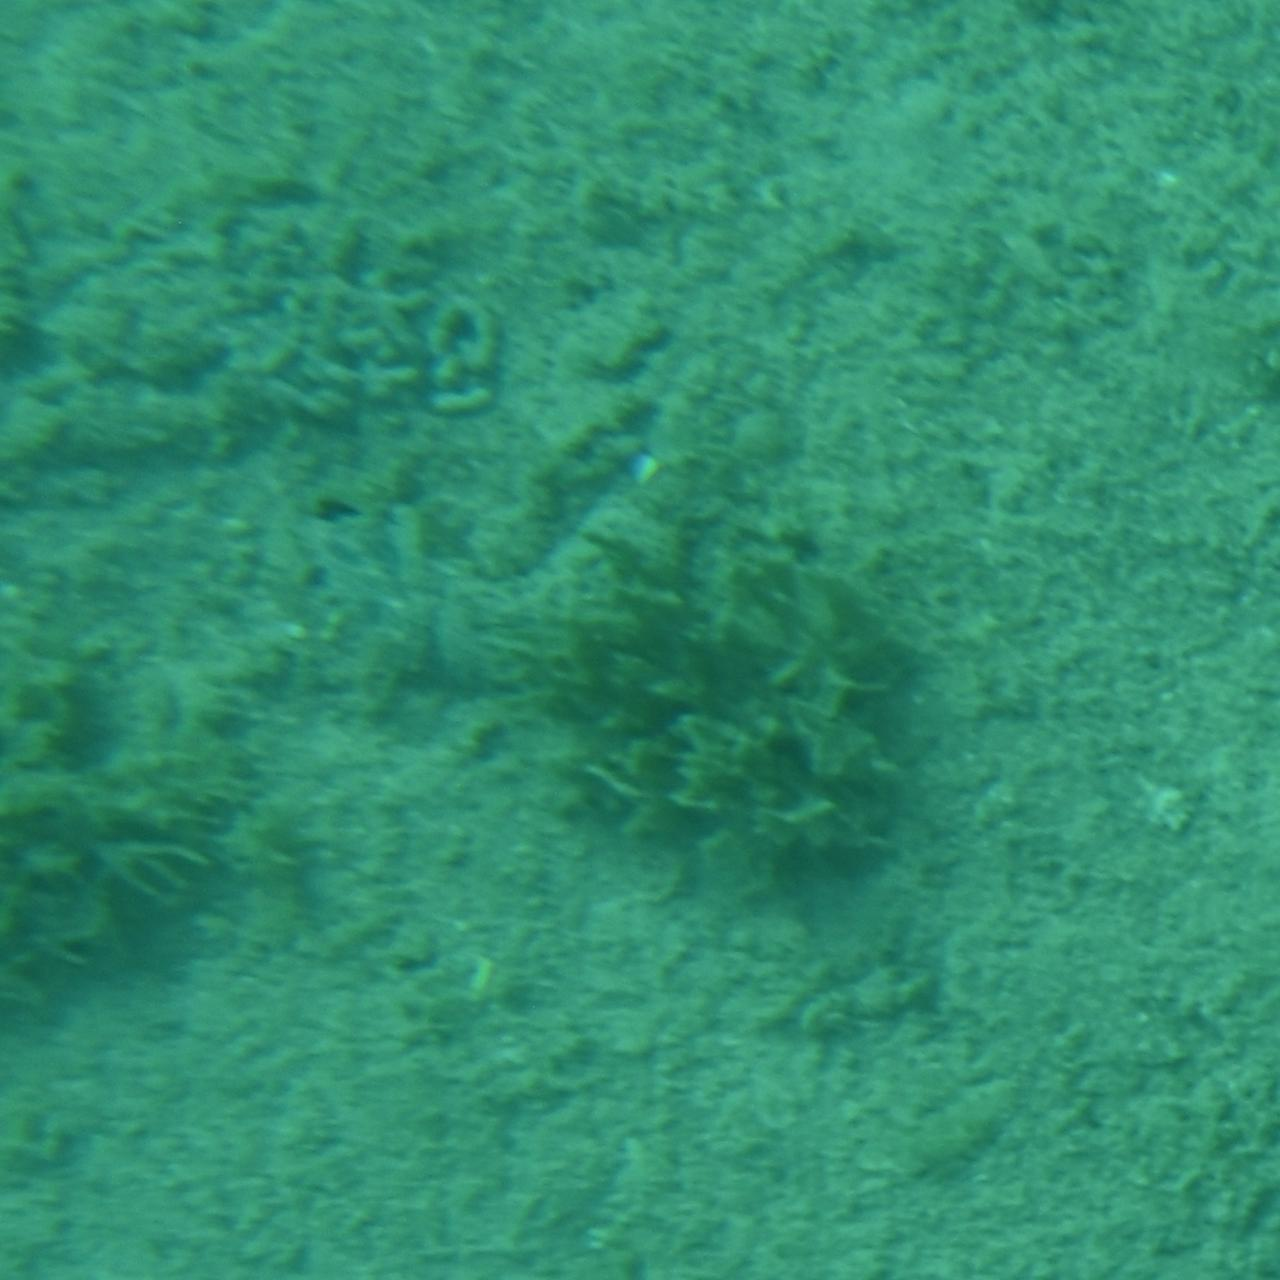Holothuria tubulosa: (393, 441, 703, 717)
Phaeophyceae -cfr Cystoseira-: (529, 509, 935, 896)
